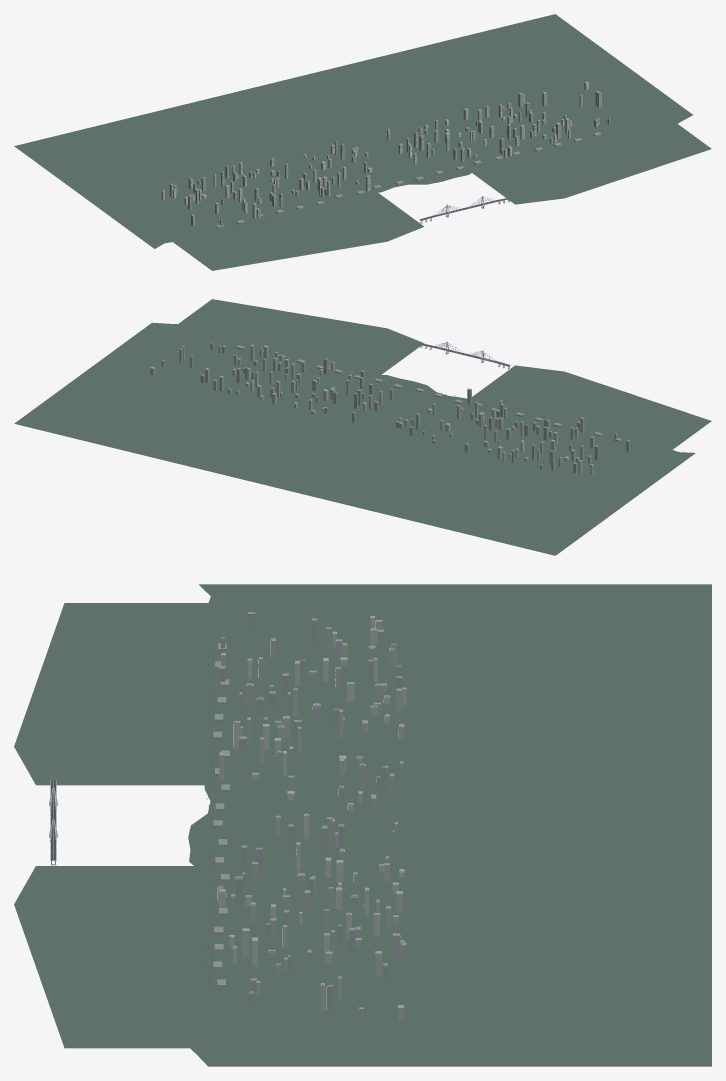
File: century-bridge.glb
The picture shows the model from 3 angles, top to bottom: view 1: azimuth 30°, elevation 25°; view 2: azimuth 150°, elevation 25°; view 3: azimuth 270°, elevation 25°; orthographic projection. The views are drawn at different scales.
Parts seen in each view (by area): view 1: Distant shore, Distant skyline 0, Distant skyline 2, Distant skyline 1, Distant skyline 3, Distant waterfront plinths; view 2: Distant shore, Distant skyline 2, Distant skyline 1, Distant skyline 0, Distant skyline 3, Distant waterfront plinths; view 3: Distant shore, Distant skyline 0, Distant skyline 1, Distant skyline 3, Distant skyline 2, Distant waterfront plinths.
Boxes of the visible parts, x1=… form: Distant shore: x1=14, y1=14, x2=711, y2=270; Distant skyline 0: x1=173, y1=91, x2=610, y2=226; Distant skyline 2: x1=169, y1=81, x2=601, y2=218; Distant skyline 1: x1=190, y1=90, x2=599, y2=214; Distant skyline 3: x1=161, y1=104, x2=570, y2=213; Distant waterfront plinths: x1=215, y1=132, x2=601, y2=228; Distant shore: x1=14, y1=299, x2=711, y2=555; Distant skyline 2: x1=150, y1=345, x2=584, y2=473; Distant skyline 1: x1=161, y1=356, x2=594, y2=469; Distant skyline 0: x1=179, y1=343, x2=630, y2=472; Distant skyline 3: x1=248, y1=344, x2=593, y2=474; Distant waterfront plinths: x1=236, y1=345, x2=621, y2=441; Distant shore: x1=14, y1=584, x2=711, y2=1066; Distant skyline 0: x1=218, y1=612, x2=402, y2=1011; Distant skyline 1: x1=231, y1=627, x2=406, y2=1019; Distant skyline 3: x1=217, y1=616, x2=406, y2=966; Distant skyline 2: x1=219, y1=620, x2=404, y2=1020; Distant waterfront plinths: x1=213, y1=643, x2=229, y2=986.
Size of the model in its own units: 5200 by 140 by 3180.
